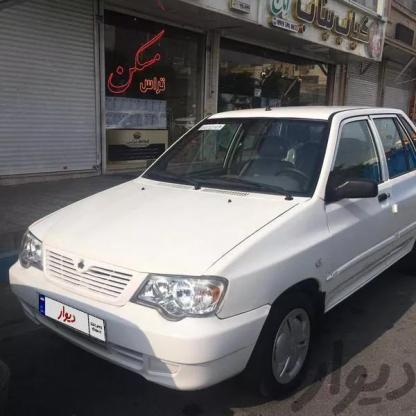Car: (4, 90, 416, 393)
